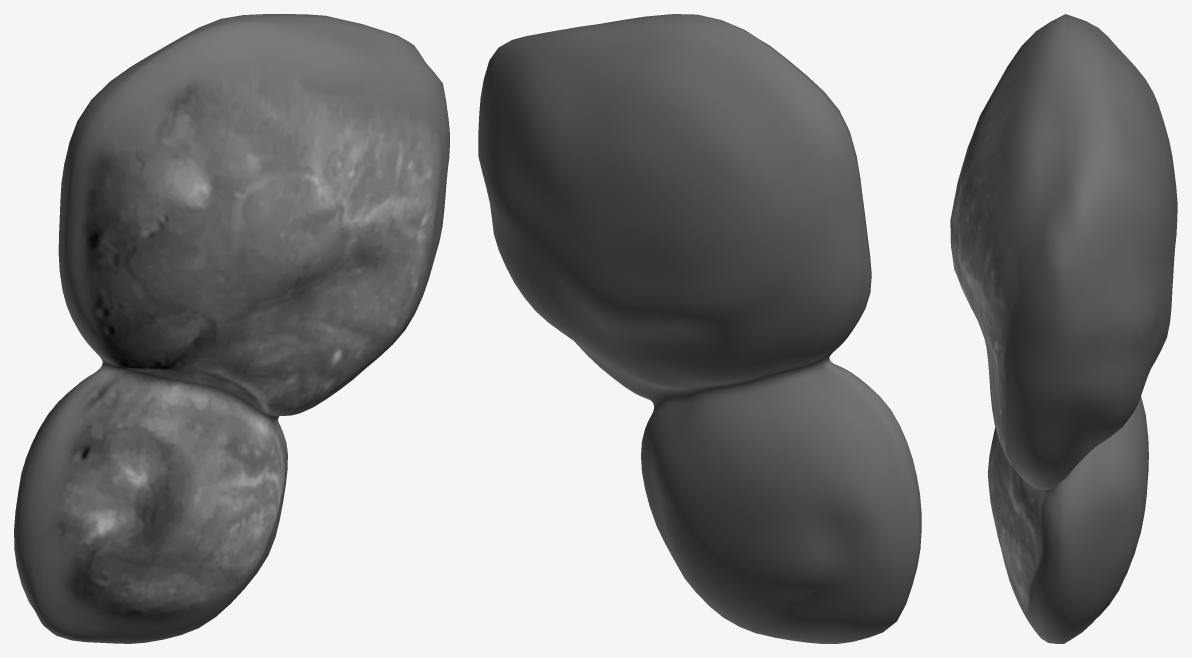
Rendered from arrokoth.glb.
3 views of the same model, side by side, from view 1: azimuth 30°, elevation 25°; view 2: azimuth 150°, elevation 25°; view 3: azimuth 270°, elevation 25° (orthographic). The views are drawn at different scales.
Parts seen in each view (by area): view 1: MU69; view 2: MU69; view 3: MU69.
Boxes of the visible parts, box(x1,y1,x2,y2) form: MU69: box(14, 14, 449, 643); MU69: box(478, 14, 921, 643); MU69: box(950, 14, 1177, 643).
Size of the model in its own units: 2258 by 2975 by 971.
Materials: 1 (1 with a texture image).
